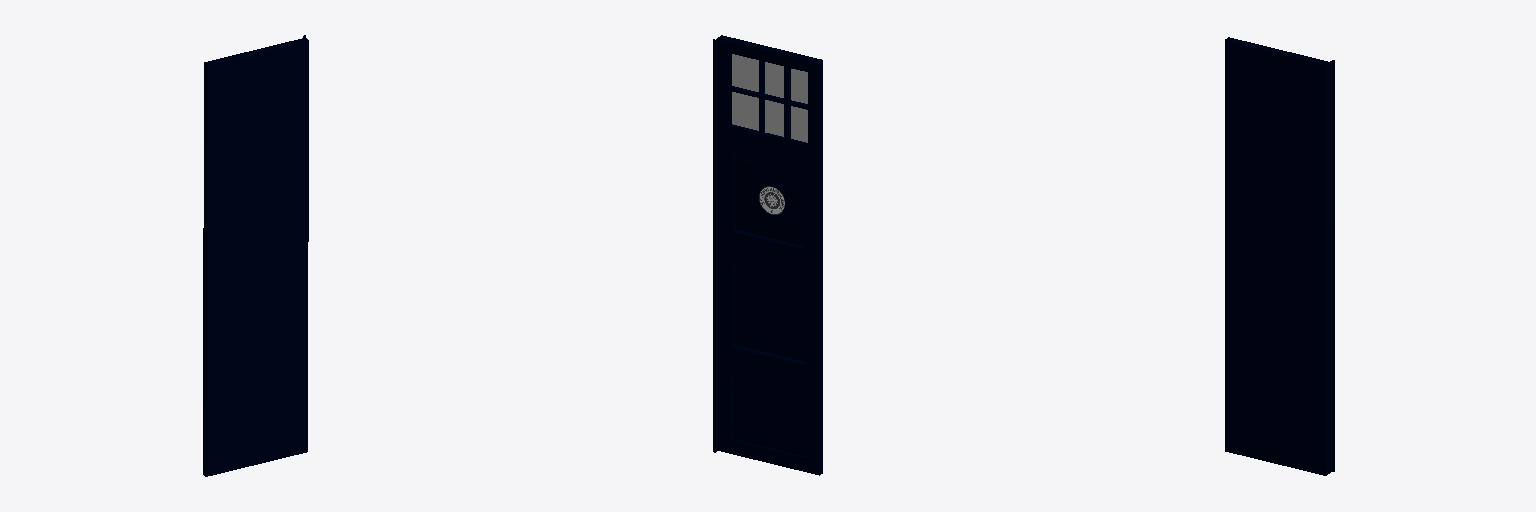
The picture shows the model from 3 angles: view 1: azimuth 30°, elevation 25°; view 2: azimuth 150°, elevation 25°; view 3: azimuth 330°, elevation 25°; orthographic projection.
Visible parts, largest first — view 1: Exterior.002_Cube.004; view 2: Exterior.002_Cube.004; view 3: Exterior.002_Cube.004.
Boxes of the visible parts, x1,y1,x2,y2 form: Exterior.002_Cube.004: [203, 35, 308, 476]; Exterior.002_Cube.004: [713, 35, 822, 475]; Exterior.002_Cube.004: [1225, 37, 1334, 475].
Bounding box in the file's own units: 0.8294 × 3.11 × 0.0954.
Materials: 3 (1 with a texture image).